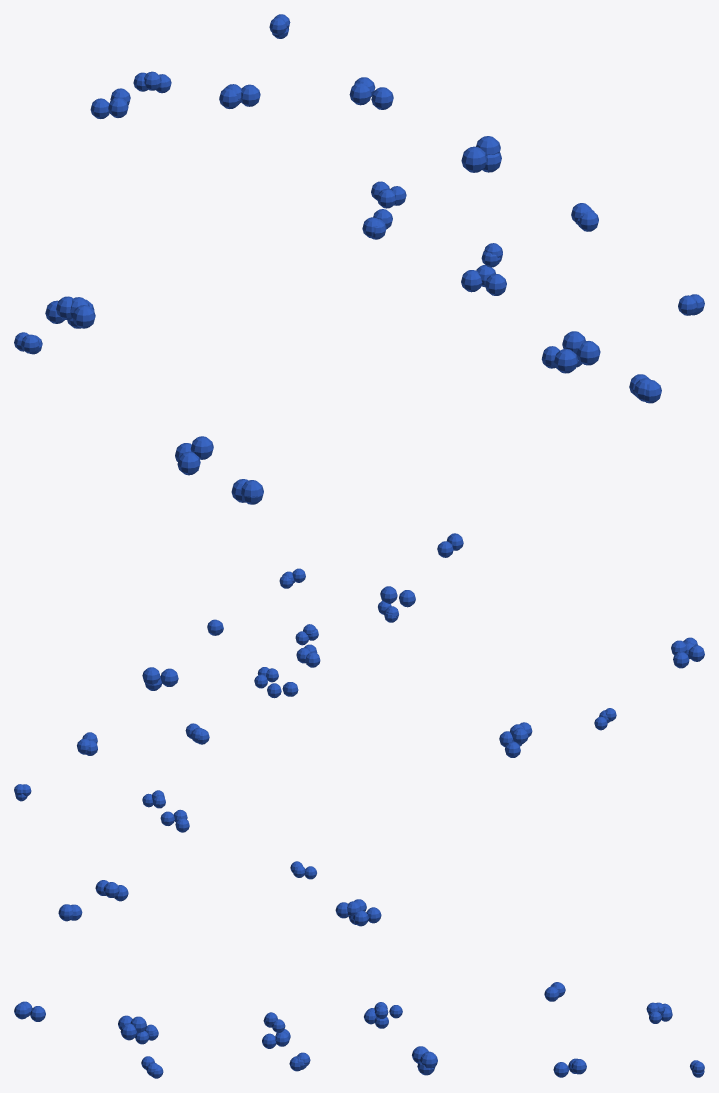
The model's file is CanopyE1_AjisaBlue.fbx.
The picture shows the model from 3 angles, top to bottom: view 1: azimuth 30°, elevation 25°; view 2: azimuth 150°, elevation 25°; view 3: azimuth 270°, elevation 25°; orthographic projection. The views are drawn at different scales.
Parts seen in each view (by area): view 1: CanopyE0_0.001; view 2: CanopyE0_0.001; view 3: CanopyE0_0.001.
Part boxes in pixels (box(x1,y1,x2,y2)): CanopyE0_0.001: box(14, 14, 704, 504); CanopyE0_0.001: box(14, 533, 704, 832); CanopyE0_0.001: box(14, 861, 704, 1078).
Bounding box in the file's own units: 15101 × 1918 × 22795.
